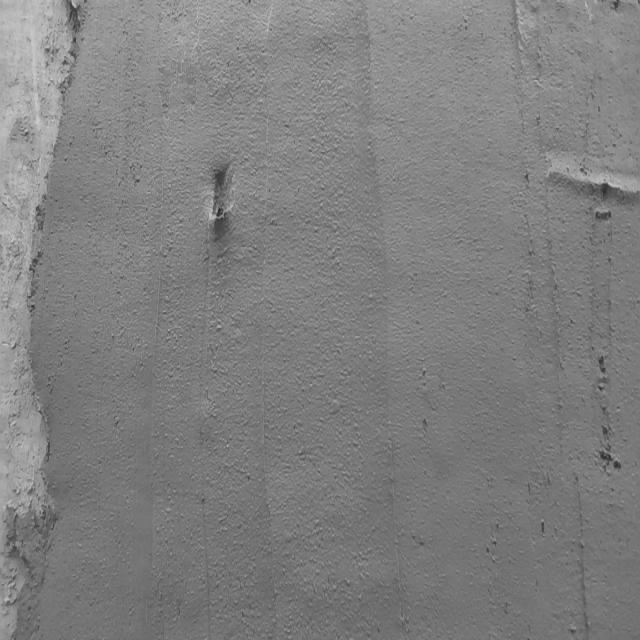trowels marks: (359, 5, 414, 639), (256, 7, 288, 632), (509, 0, 539, 326), (198, 252, 220, 640), (569, 465, 598, 640)
